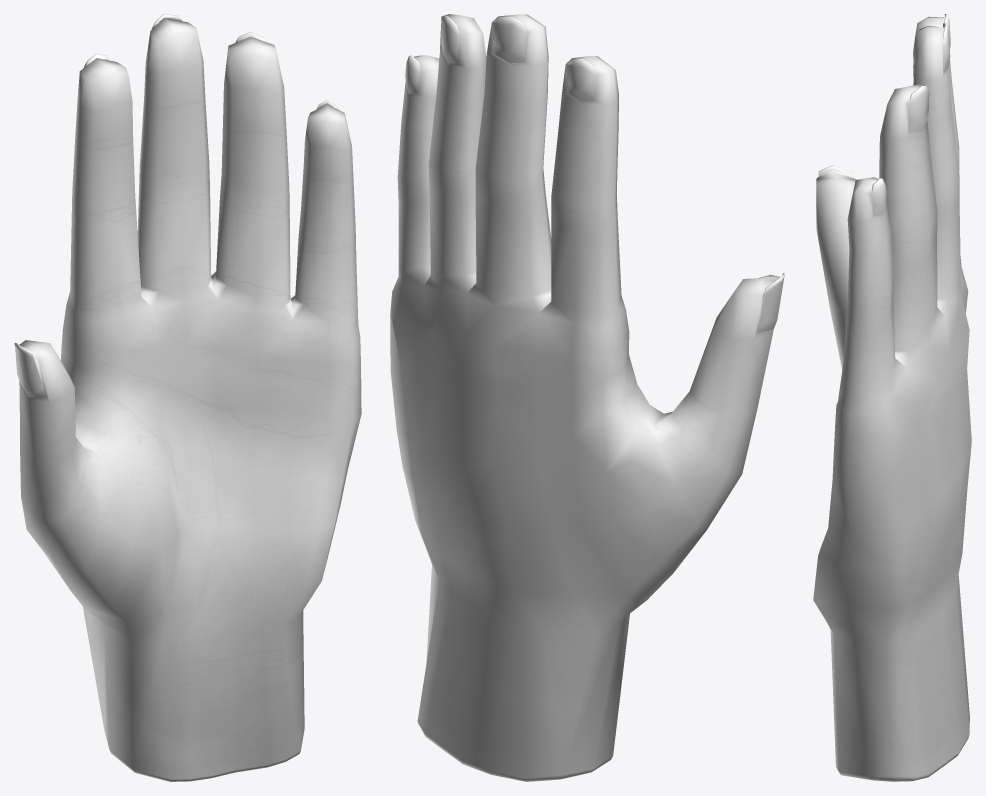
Rendered from l_smooth_open.glb.
3 renders of one model, left to right at view 1: azimuth 30°, elevation 25°; view 2: azimuth 150°, elevation 25°; view 3: azimuth 270°, elevation 25°, orthographic. The views are drawn at different scales.
Visible parts, largest first — view 1: L_Smooth_Open; view 2: L_Smooth_Open; view 3: L_Smooth_Open.
Boxes of the visible parts, x1,y1,x2,y2 form: L_Smooth_Open: (14,14,361,781); L_Smooth_Open: (390,14,784,781); L_Smooth_Open: (813,14,971,781).
Bounding box in the file's own units: 0.1276 × 0.2525 × 0.0503.
1 material, 1 textured.
